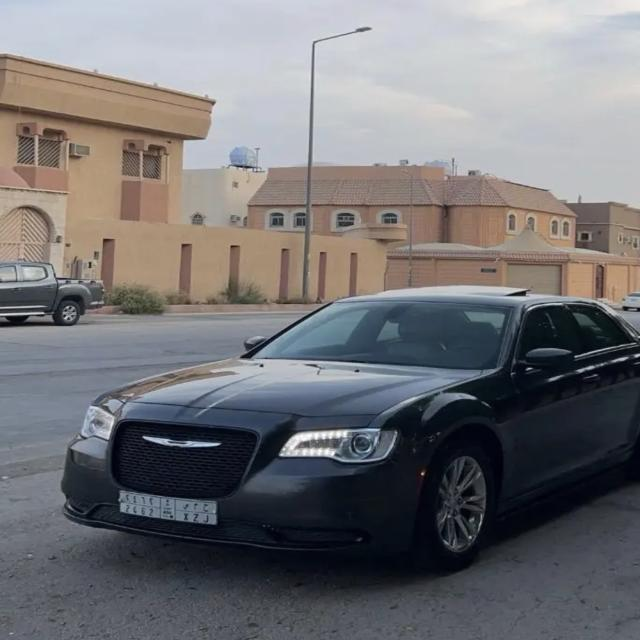license_plate: (120, 490, 218, 524)
